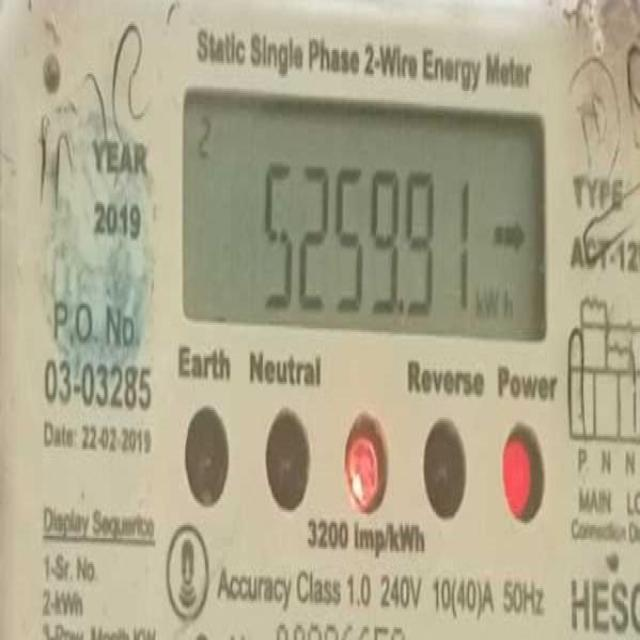1: (461, 170, 475, 314)
2: (300, 162, 330, 318)
5: (334, 163, 372, 314), (260, 157, 296, 311)
9: (404, 168, 439, 322), (366, 169, 399, 314)
Digital meter: (188, 83, 542, 344)
point: (394, 289, 408, 321)
